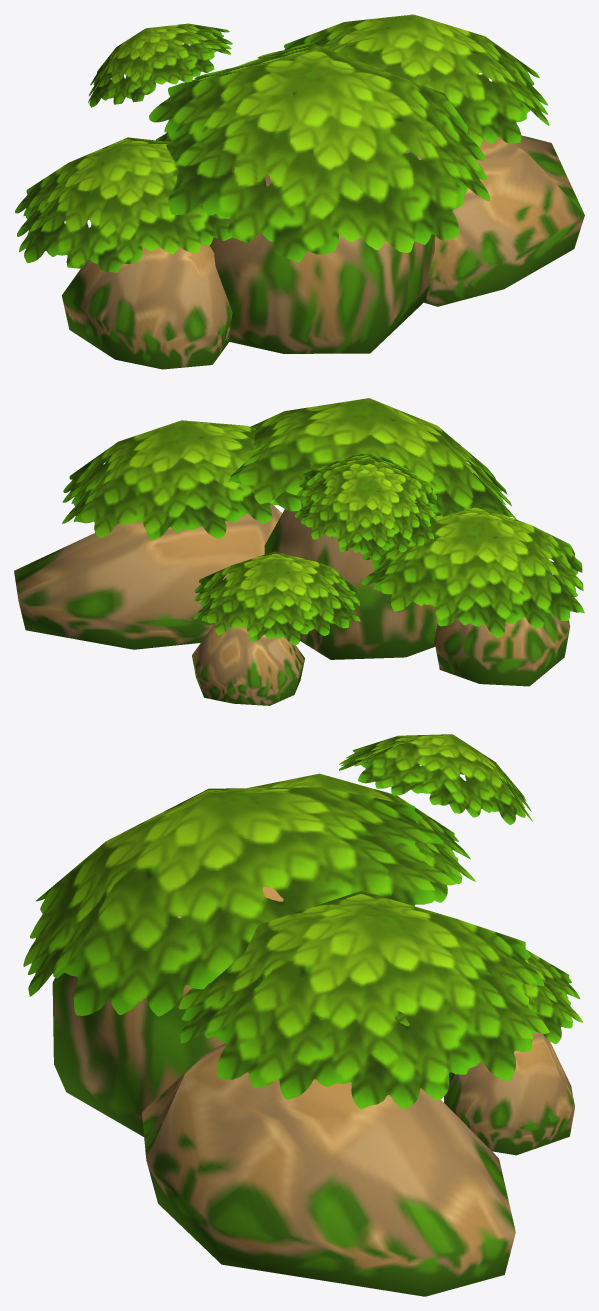
Rendered from RockGroup_06.FBX.
3 renders of one model, top to bottom at view 1: azimuth 30°, elevation 25°; view 2: azimuth 150°, elevation 25°; view 3: azimuth 270°, elevation 25°, orthographic. The views are drawn at different scales.
Parts seen in each view (by area): view 1: RockGroup_06; view 2: RockGroup_06; view 3: RockGroup_06.
Boxes of the visible parts, x1,y1,x2,y2 form: RockGroup_06: (15, 14, 584, 369); RockGroup_06: (14, 398, 584, 705); RockGroup_06: (23, 734, 582, 1296).
Bounding box in the file's own units: 1.53 × 0.6109 × 0.9991.
